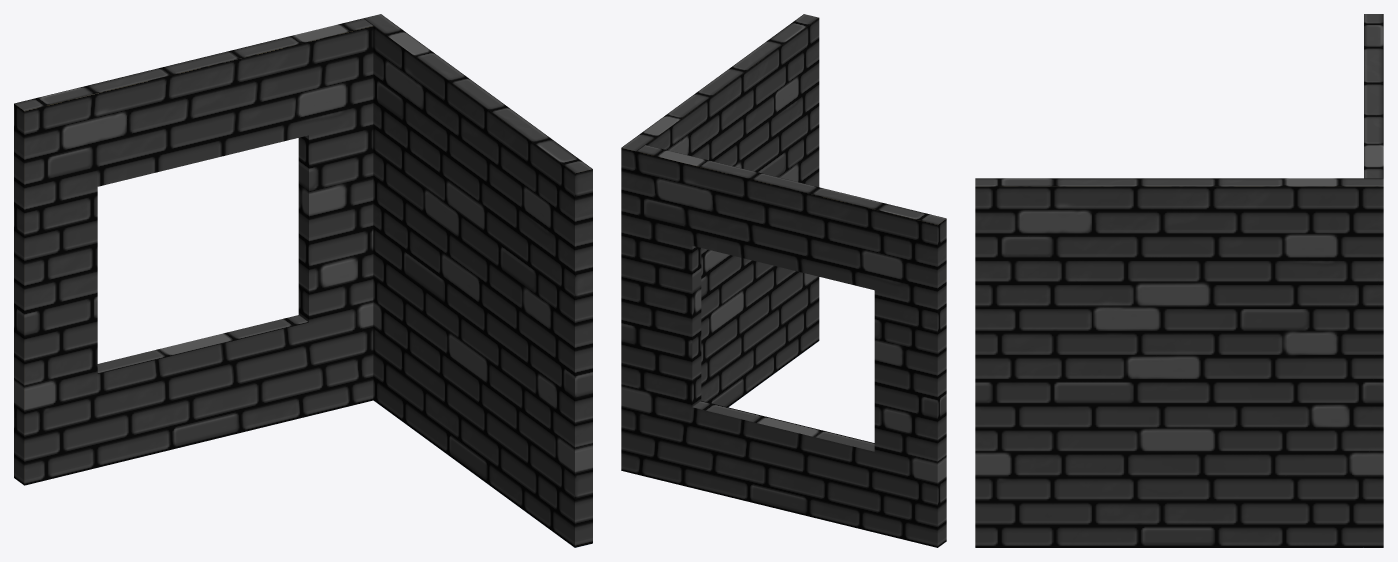
File: Wall_3_Corner_C.fbx
3 views of the same model, side by side, from view 1: azimuth 30°, elevation 25°; view 2: azimuth 150°, elevation 25°; view 3: azimuth 270°, elevation 25° (orthographic). The views are drawn at different scales.
Parts seen in each view (by area): view 1: polySurface20; view 2: polySurface20; view 3: polySurface20.
Boxes of the visible parts, x1,y1,x2,y2 form: polySurface20: [14, 14, 592, 547]; polySurface20: [621, 14, 946, 547]; polySurface20: [975, 14, 1383, 547].
Size of the model in its own units: 4.1 by 4 by 4.1.
